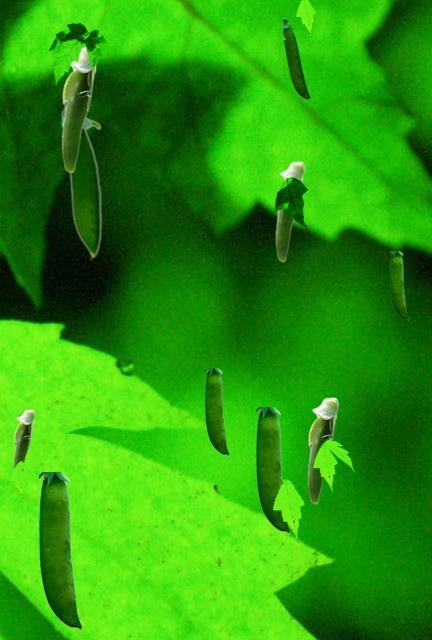pea: (39, 472, 81, 630), (60, 107, 101, 260), (61, 46, 98, 172), (256, 407, 289, 533), (307, 397, 338, 503), (275, 161, 304, 261), (282, 17, 309, 98), (205, 368, 228, 455), (13, 409, 34, 467), (390, 251, 407, 319)
